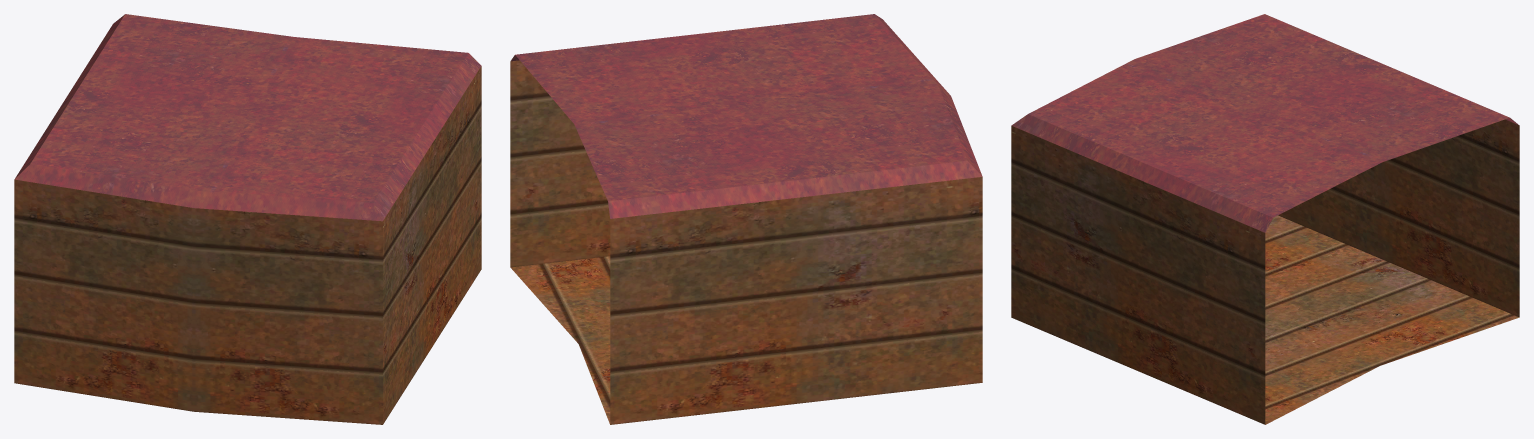
Rendered from BuoyBowlStepB.fbx.
3 views of the same model, side by side, from view 1: azimuth 30°, elevation 25°; view 2: azimuth 150°, elevation 25°; view 3: azimuth 270°, elevation 25° (orthographic). The views are drawn at different scales.
Visible parts, largest first — view 1: FloatyLandPlanet.001, FloatyLandPlanet.002; view 2: FloatyLandPlanet.001, FloatyLandPlanet.002; view 3: FloatyLandPlanet.001, FloatyLandPlanet.002.
Boxes of the visible parts, x1,y1,x2,y2 form: FloatyLandPlanet.001: [14, 66, 481, 424]; FloatyLandPlanet.002: [14, 14, 481, 221]; FloatyLandPlanet.001: [510, 60, 982, 424]; FloatyLandPlanet.002: [511, 14, 982, 218]; FloatyLandPlanet.001: [1011, 119, 1519, 424]; FloatyLandPlanet.002: [1011, 14, 1518, 232].
Size of the model in its own units: 78387 by 34881 by 78387.
Materials: 2 (2 with a texture image).
